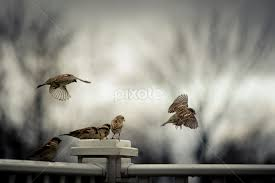hsparrow: (62, 114, 137, 152), (29, 72, 93, 103), (155, 94, 201, 128), (18, 137, 70, 164)
